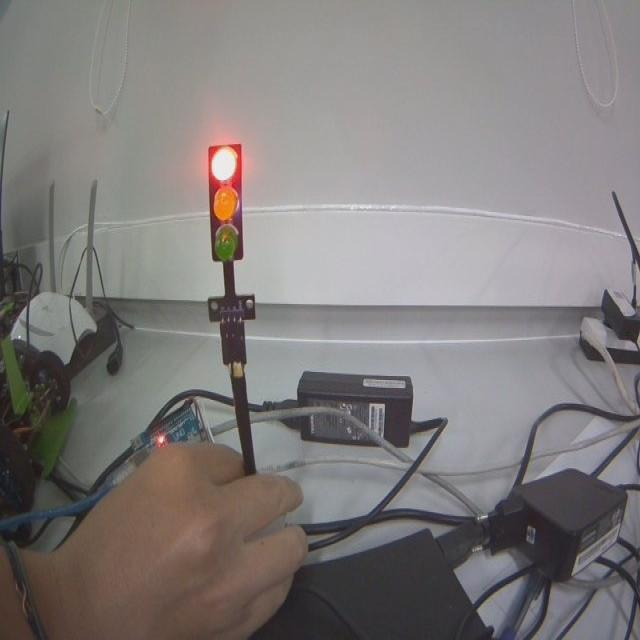Lampu Merah: (205, 140, 244, 267)
